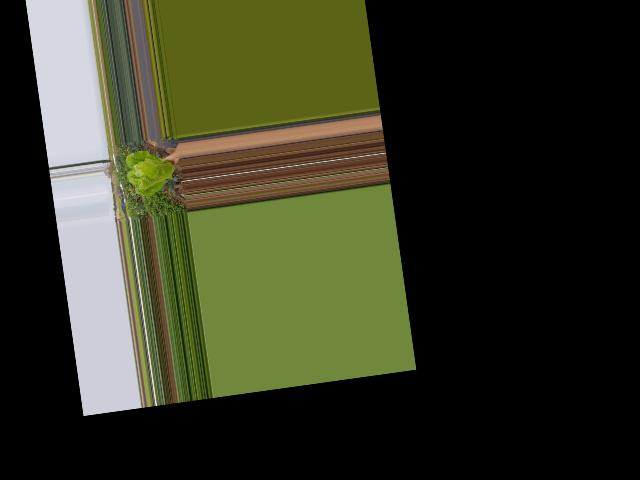lettuce: (123, 143, 181, 200)
